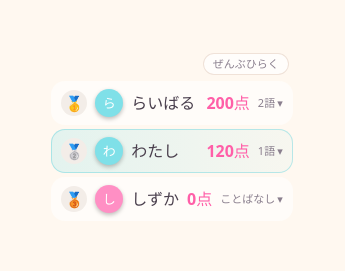
it: RoundPlayerList › 相手の行をタップすると、その人が組み立てたことばと点数が見られる
Click the text "らいばる" at [165, 103], box 131,91 -> 198,115
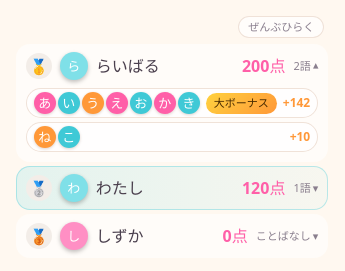
Expected: the element named "あいうえおかき" is shown, 34,92 -> 200,114
Expected: the text "大ボーナス" is shown, 206,93 -> 277,114
